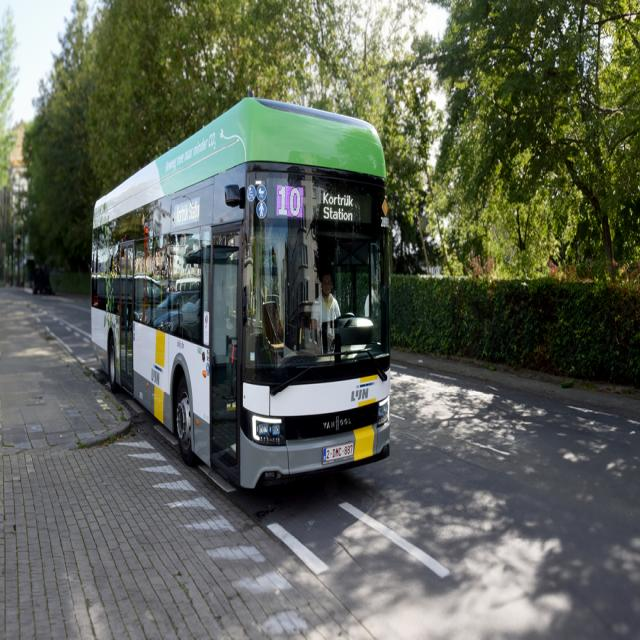bus-number: (277, 185, 303, 218)
